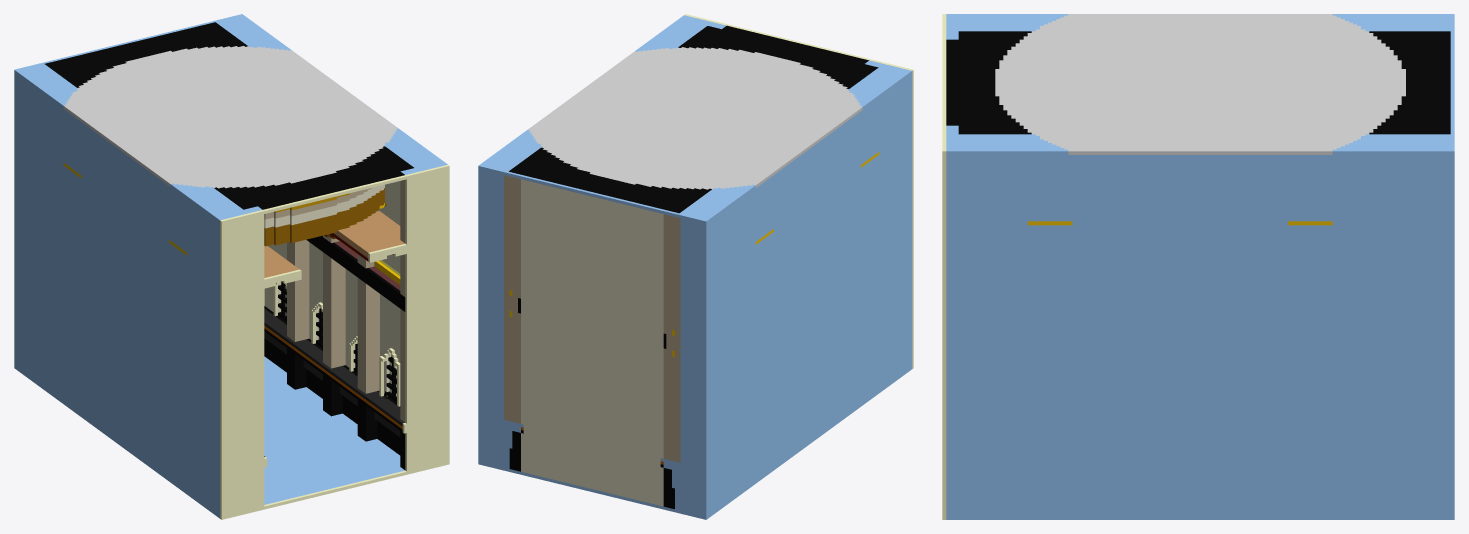
The model's file is bank 2.obj.
3 renders of one model, left to right at view 1: azimuth 30°, elevation 25°; view 2: azimuth 150°, elevation 25°; view 3: azimuth 270°, elevation 25°, orthographic. The views are drawn at different scales.
Size of the model in its own units: 8 by 10 by 12.6.
1 material, 1 textured.
